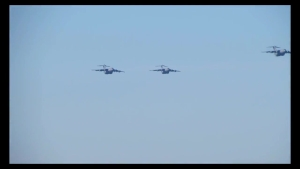flight: (90, 64, 126, 75), (260, 44, 290, 57), (148, 64, 182, 75)
